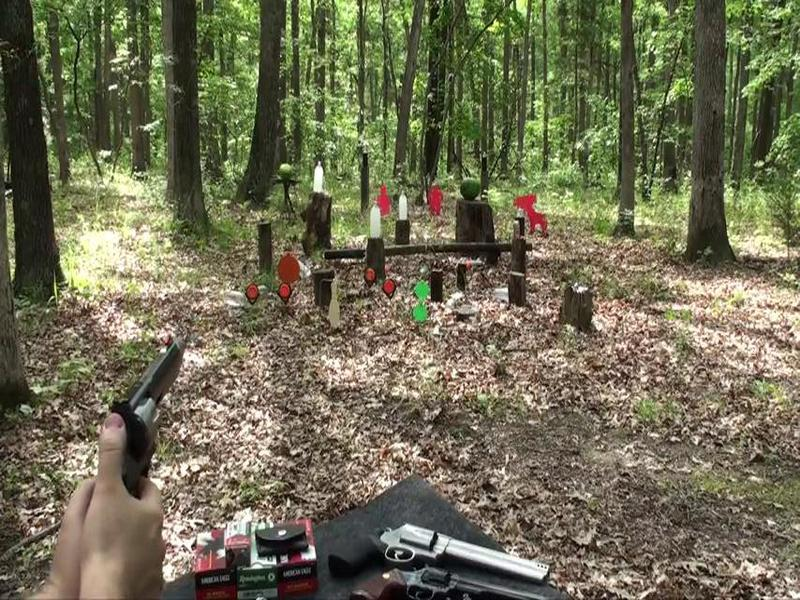Revolver: (86, 307, 203, 517)
